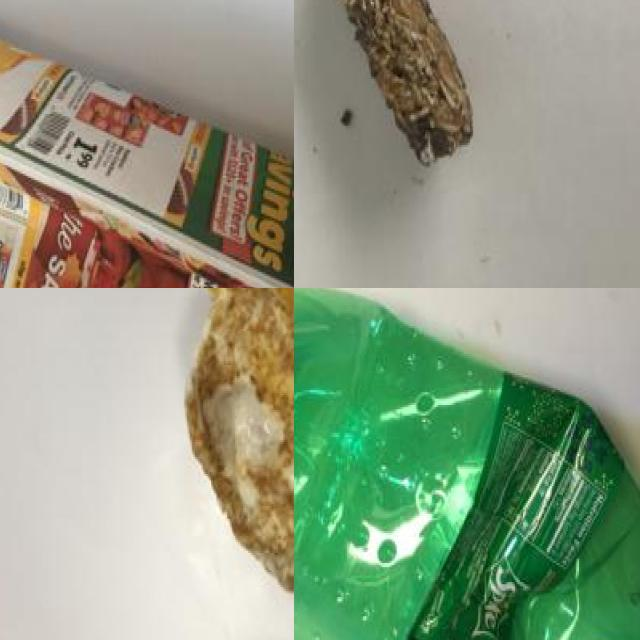compost: (171, 288, 294, 611), (294, 0, 478, 186)
paper: (0, 0, 294, 288)
plastic: (294, 288, 640, 640)
